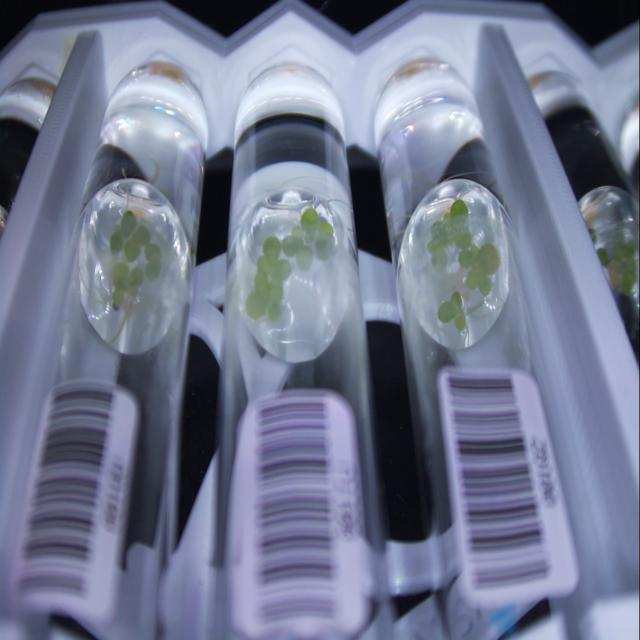Lemna-Gibba: (459, 243, 500, 295), (436, 198, 471, 248), (438, 292, 466, 330), (428, 222, 448, 272), (315, 222, 335, 260), (121, 267, 145, 297), (301, 207, 319, 242), (245, 290, 266, 319), (268, 279, 282, 322), (262, 237, 281, 264), (111, 262, 129, 290), (281, 235, 302, 257), (271, 259, 291, 282), (296, 245, 314, 270), (120, 210, 136, 238), (124, 238, 141, 262), (134, 225, 150, 245), (110, 232, 124, 254), (145, 262, 161, 280), (145, 243, 160, 262), (254, 272, 269, 290), (112, 287, 124, 309), (258, 255, 271, 274), (291, 227, 304, 240), (261, 282, 270, 300)
